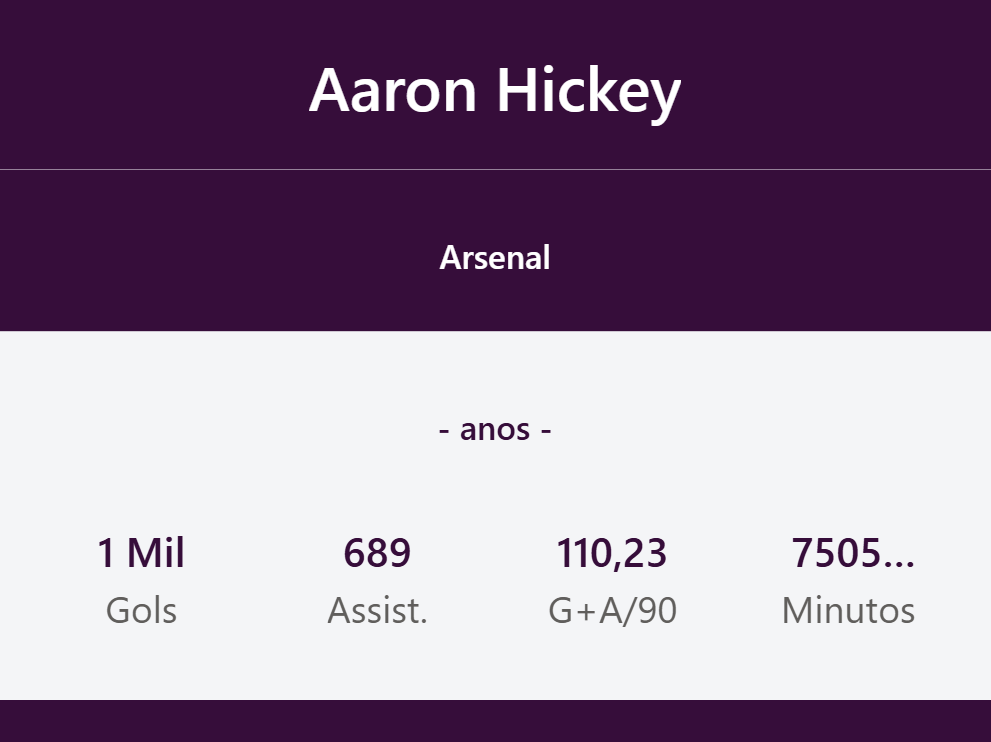

The page's visual inventory and layout, read from the dashboard file:
{"tool":"powerbi","page":{"name":"Tooltip jogador","canvas":[320,240],"ordinal":3},"visuals":[{"type":"cardVisual","fields":{"Data":["Min(Jogadores.name)"]},"box":[0,0,320,55.2],"z":0},{"type":"cardVisual","fields":{"Data":["Sum(Estatísticas dos Jogadores.goals)","Sum(Estatísticas dos Jogadores.assists)","Sum(Estatísticas dos Jogadores.goals_assists_per_90)","Sum(Estatísticas dos Jogadores.minutes_played)"]},"box":[0,149.4,320,76.8],"z":1000},{"type":"cardVisual","fields":{"Data":["_Medidas.Info Jogador"]},"box":[0,107.4,320,60.3],"z":2000},{"type":"cardVisual","fields":{"Data":["Min(Times.squad)"]},"box":[0,55.2,320,52.3],"z":3000},{"type":"cardVisual","fields":{"Rows":["Estatísticas dos Jogadores.squad_id"]},"box":[0,226.1,320,13.9],"z":4000}]}

Visuals, with their boxes in screenshot pixels (x1, y1, x2, y2), scaled from the page's 320x240 canvas onto the 991x742 screenshot:
cardVisual - Min(Jogadores.name): l=0, t=0, r=990, b=171
cardVisual - Sum(Estatísticas dos Jogadores.goals) x Sum(Estatísticas dos Jogadores.assists): l=0, t=462, r=990, b=699
cardVisual - _Medidas.Info Jogador: l=0, t=332, r=990, b=518
cardVisual - Min(Times.squad): l=0, t=171, r=990, b=332
cardVisual - Estatísticas dos Jogadores.squad_id: l=0, t=699, r=990, b=741
